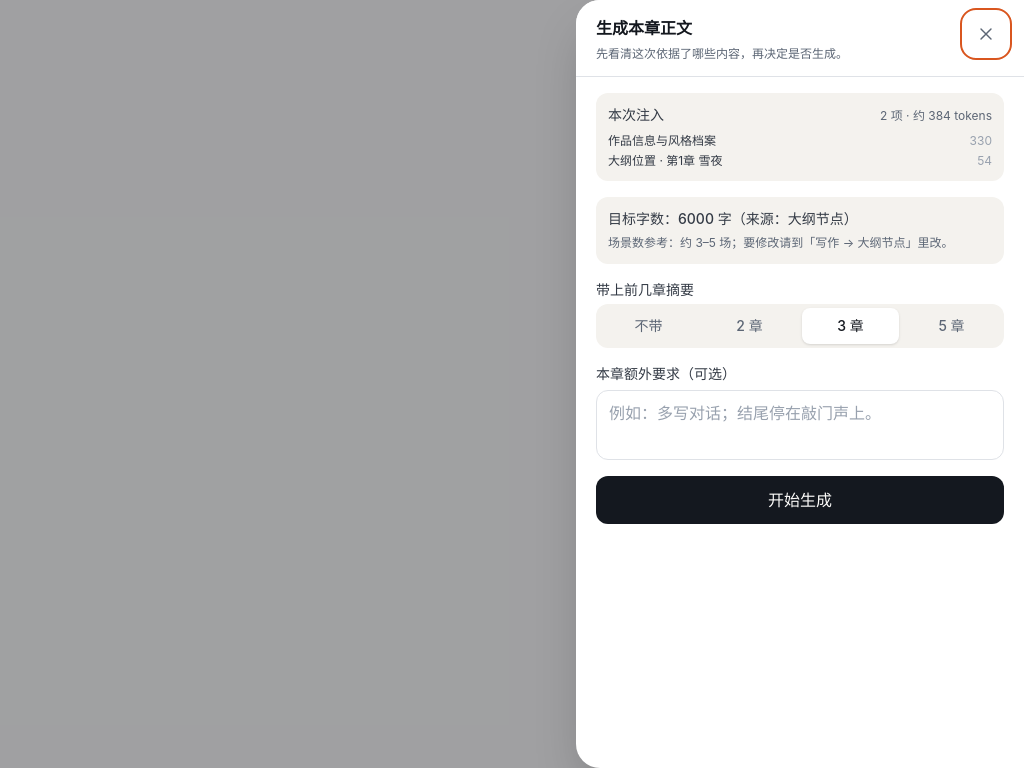
Test case: 400 max_tokens 回退（design §8.2） › 400 但报错与 max_tokens 无关：不重试，直接显示错误
The width and height of the screenshot is (1024, 768).
Click the button "开始生成": (800, 500) [596, 476, 1004, 524]
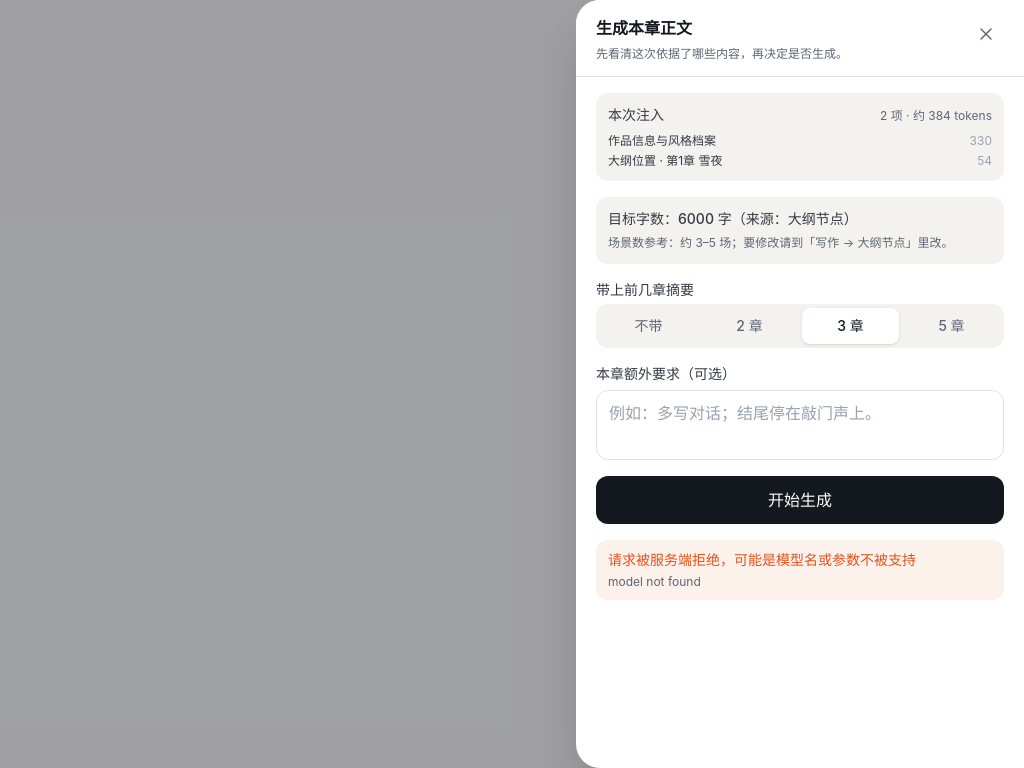
Check: the message "请求被服务端拒绝，可能是模型名或参数不被支持 model not found" is shown, box [596, 540, 1004, 600]
Check: the message shows "请求被服务端拒绝", box [608, 551, 916, 568]
